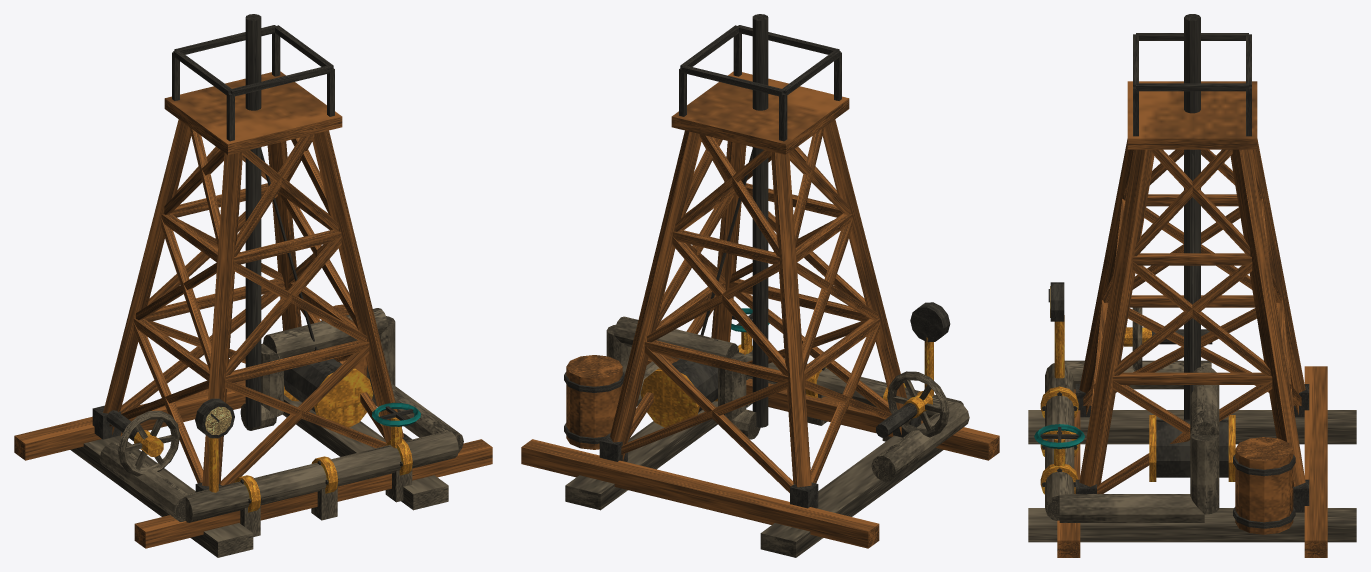
The model's file is derrick-04.glb.
The picture shows the model from 3 angles, left to right: view 1: azimuth 30°, elevation 25°; view 2: azimuth 150°, elevation 25°; view 3: azimuth 270°, elevation 25°; orthographic projection. The views are drawn at different scales.
Parts seen in each view (by area): view 1: derrick-04; view 2: derrick-04; view 3: derrick-04.
Boxes of the visible parts, x1,y1,x2,y2 form: derrick-04: (14, 14, 492, 557); derrick-04: (521, 14, 999, 557); derrick-04: (1028, 14, 1356, 557).
Bounding box in the file's own units: 5.4 × 6.75 × 4.3.
1 material, 1 textured.
